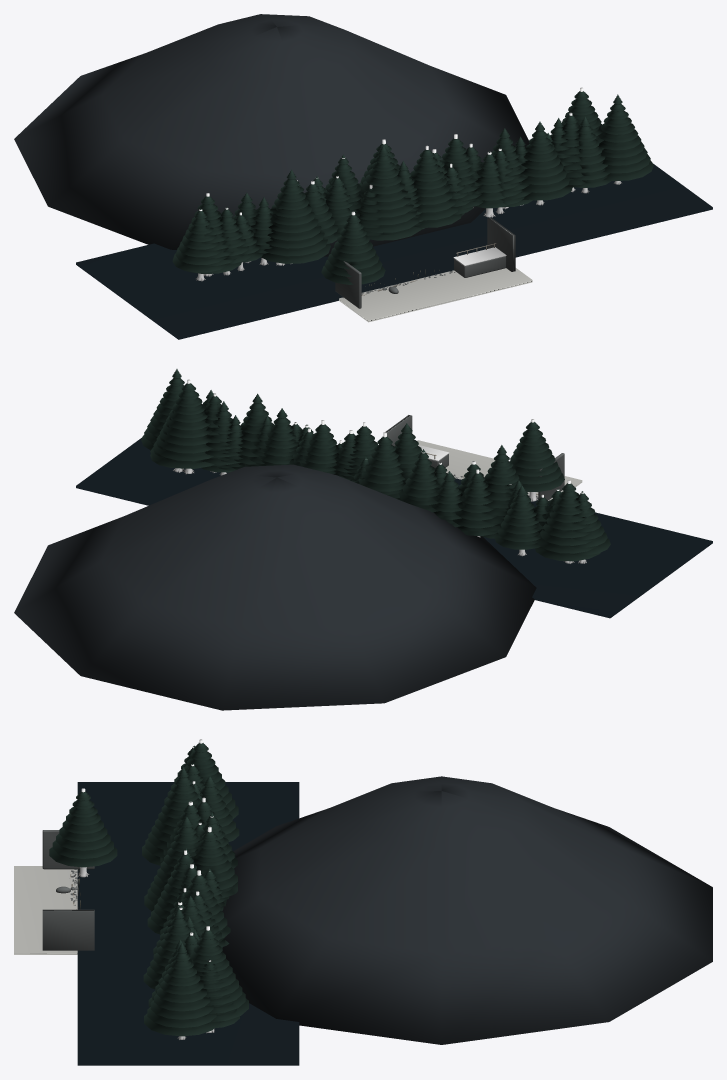
File: shore.glb
3 views of the same model, one above another, from view 1: azimuth 30°, elevation 25°; view 2: azimuth 150°, elevation 25°; view 3: azimuth 270°, elevation 25° (orthographic). The views are drawn at different scales.
Visible parts, largest first — view 1: Mountain, Lake, Beach, Cliff • right, Cliff • left, Embankment, Fir tier.053, Road planks; view 2: Mountain, Lake, Beach; view 3: Mountain, Lake, Beach, Cliff • right, Fir tier.286, Fir tier.297, Cliff • left, Fir tier.287, Fir tier.298, Fir tier.288, Fir tier.289.
Part boxes in pixels (x1,y1,x2,y2): Mountain: (14,14,529,256); Lake: (76,164,712,339); Beach: (339,268,532,322); Cliff • right: (487,217,515,271); Cliff • left: (335,261,361,308); Embankment: (454,256,506,277); Fir tier.053: (261,244,330,263); Road planks: (453,247,506,265); Mountain: (14,464,536,710); Lake: (76,438,712,618); Beach: (417,440,582,500); Mountain: (222,776,712,1044); Lake: (77,782,299,1065); Beach: (14,866,77,954); Cliff • right: (42,909,94,950); Fir tier.286: (144,1013,219,1036); Fir tier.297: (49,847,117,867); Cliff • left: (42,830,94,869); Fir tier.287: (147,1007,216,1027); Fir tier.298: (52,840,113,858); Fir tier.288: (150,1000,213,1019); Fir tier.289: (154,994,210,1011).
Size of the model in its own units: 140 by 31.1 by 147.
